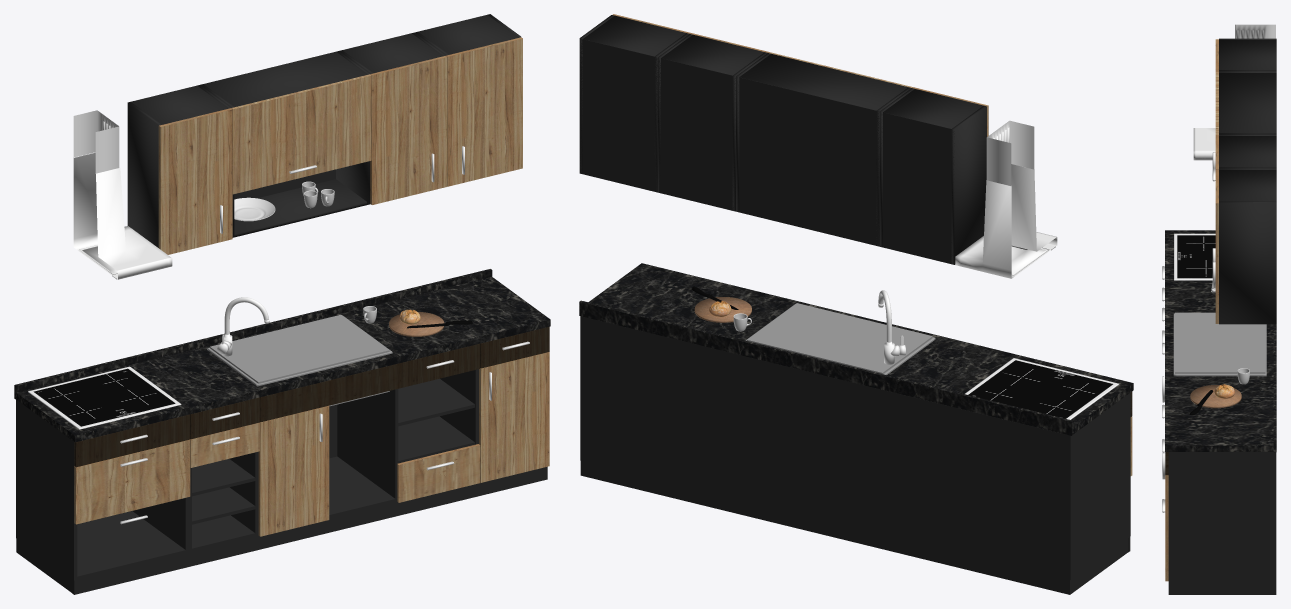
The model's file is 2_counter.glb.
3 renders of one model, left to right at view 1: azimuth 30°, elevation 25°; view 2: azimuth 150°, elevation 25°; view 3: azimuth 270°, elevation 25°, orthographic. The views are drawn at different scales.
Parts seen in each view (by area): view 1: top.001, cabinet_ground_40x82.030, cabinet_ground_40x82.028, cabinet_ground_40x82.027, cabinet_ground_40x82.026, cabinet_ground_40x82.029, cabinet_wall_40.007, cabinet_ground_60x82.005, cabinet_ground_40x82.019, cabinet_ground_40x82.021, bootom stand.001, cabinet_ground_40x82.032 (+21 smaller); view 2: cabinet_ground_60x82.005, cabinet_ground_40x82.030, cabinet_wall_40.007, cabinet_wall_40.008, cabinet_wall_40.006, cabinet_wall_40.005, top.001, cabinet_ground_60x82.004, cabinet_ground_40x82.017, bootom stand.001, top.back.001, sink FRANKE._booleanbox.001 (+4 smaller); view 3: cabinet_ground_60x82.004, top.001, cabinet_wall_40.006, sink FRANKE._booleanbox.001, cabinet_wall_40.007, cabinet_wall_40.005, cabinet_wall_40.008, Plane.001, bootom stand.001, hood.001, cutting board.001, cabinet_ground_40x82.026 (+8 smaller).
Part boxes in pixels (x1,y1,x2,y2): top.001: (16,276,550,442); cabinet_ground_40x82.030: (16,399,188,580); cabinet_ground_40x82.028: (231,74,371,194); cabinet_ground_40x82.027: (370,56,447,204); cabinet_ground_40x82.026: (446,37,522,186); cabinet_ground_40x82.029: (158,108,232,254); cabinet_wall_40.007: (200,51,370,237); cabinet_ground_60x82.005: (258,369,478,535); cabinet_ground_40x82.019: (258,405,329,536); cabinet_ground_40x82.021: (479,352,549,482); bootom stand.001: (16,466,547,594); cabinet_ground_40x82.032: (74,439,190,524); cabinet_ground_60x82.005: (652,333,879,533); cabinet_ground_40x82.030: (951,393,1130,579); cabinet_wall_40.007: (736,53,911,246); cabinet_wall_40.008: (879,88,986,264); cabinet_wall_40.006: (579,15,689,192); cabinet_wall_40.005: (657,34,767,211); top.001: (588,263,1133,433); cabinet_ground_60x82.004: (580,316,651,477); cabinet_ground_40x82.017: (880,389,951,550); bootom stand.001: (580,461,1130,594); top.back.001: (579,300,1073,435); sink FRANKE._booleanbox.001: (746,303,932,373); cabinet_ground_60x82.004: (1168,452,1276,581); top.001: (1165,230,1273,451); cabinet_wall_40.006: (1219,168,1276,324); sink FRANKE._booleanbox.001: (1175,312,1265,373); cabinet_wall_40.007: (1219,71,1276,134); cabinet_wall_40.005: (1219,134,1276,168); cabinet_wall_40.008: (1219,38,1276,71); Plane.001: (1177,235,1215,277); bootom stand.001: (1168,581,1276,594); hood.001: (1193,128,1215,160); cutting board.001: (1190,385,1241,408); cabinet_ground_40x82.026: (1215,169,1218,323).
Size of the model in its own units: 2.75 by 2.33 by 0.6157.
Materials: 20 (7 with a texture image).
